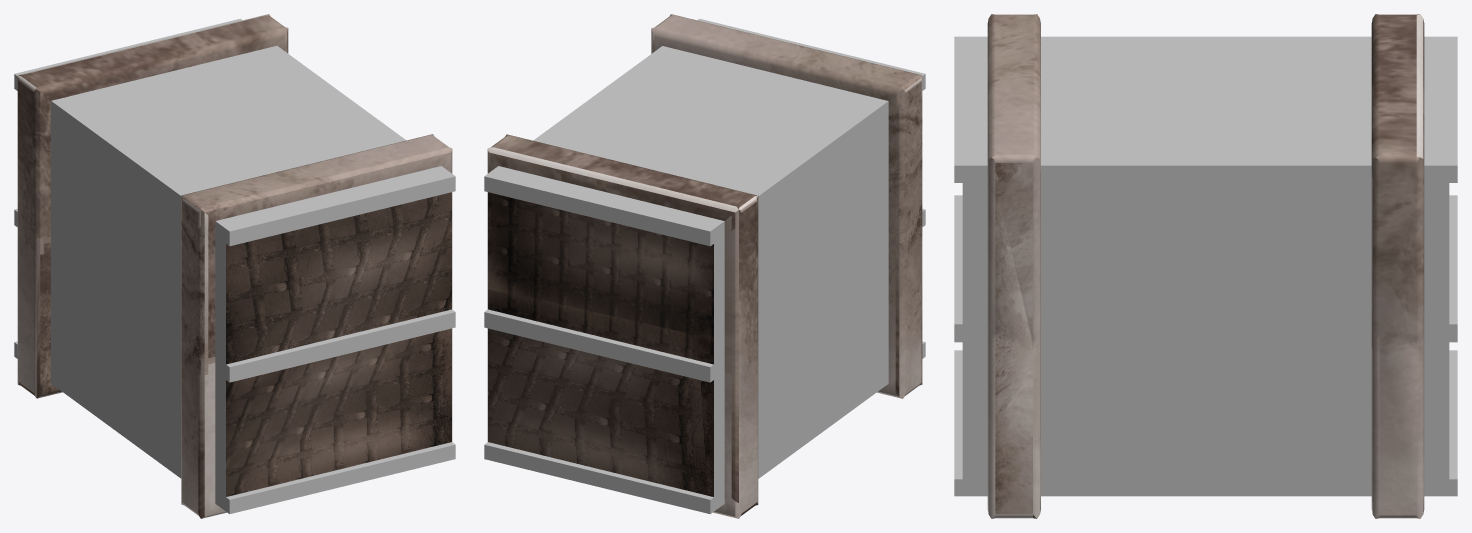
The model's file is OrangeBox.fbx.
3 views of the same model, side by side, from view 1: azimuth 30°, elevation 25°; view 2: azimuth 150°, elevation 25°; view 3: azimuth 270°, elevation 25° (orthographic). The views are drawn at different scales.
Parts seen in each view (by area): view 1: pCube1.002; view 2: pCube1.002; view 3: pCube1.002.
Boxes of the visible parts, x1,y1,x2,y2 form: pCube1.002: (14, 14, 455, 518); pCube1.002: (484, 14, 925, 518); pCube1.002: (954, 14, 1457, 518).
Bounding box in the file's own units: 1.67 × 1.97 × 2.47.
